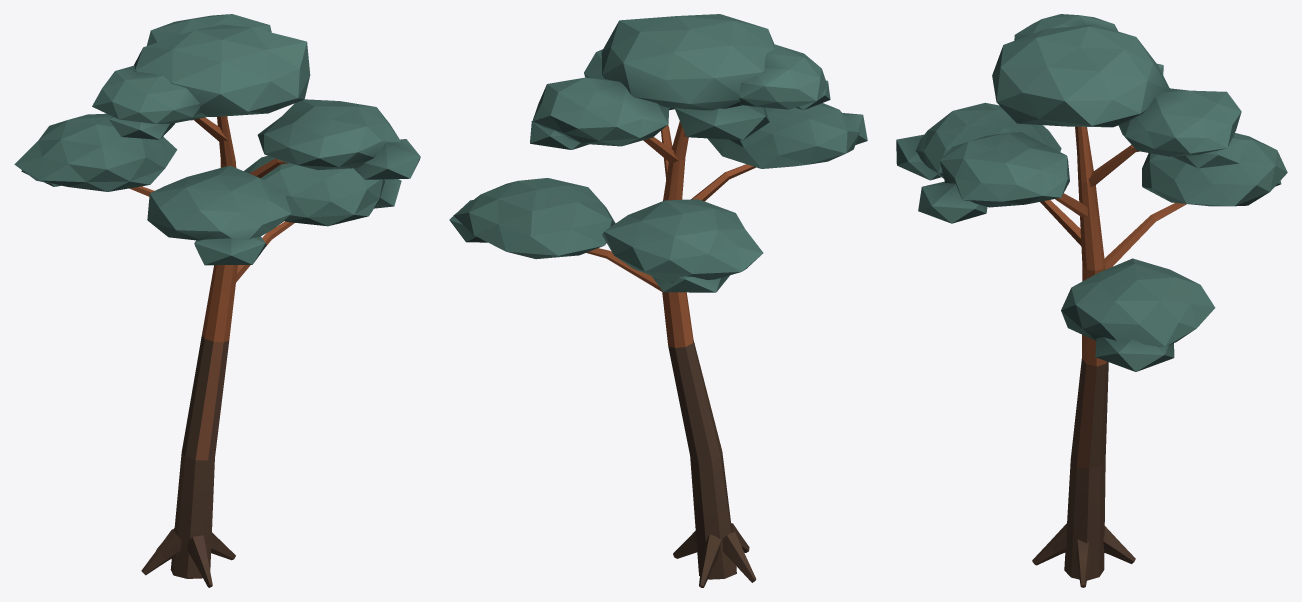
File: tree_big_pine.glb
3 renders of one model, left to right at view 1: azimuth 30°, elevation 25°; view 2: azimuth 150°, elevation 25°; view 3: azimuth 270°, elevation 25°, orthographic. The views are drawn at different scales.
Bounding box in the file's own units: 8.64 × 13.05 × 8.58.
